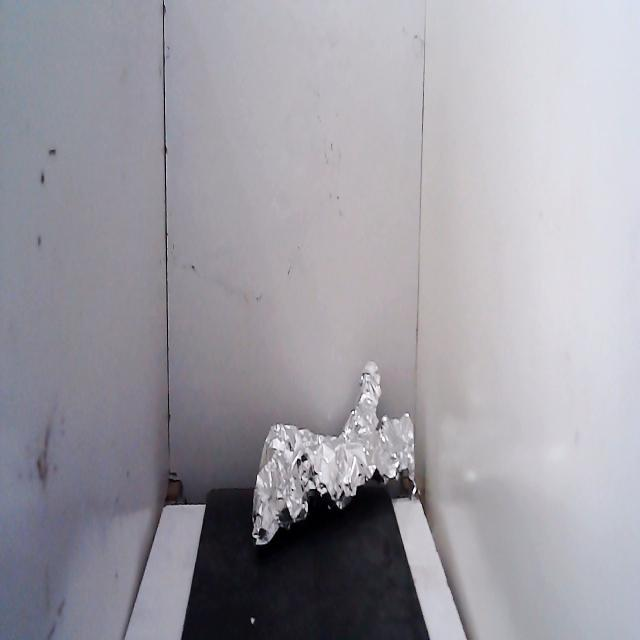metal: (240, 343, 426, 565)
